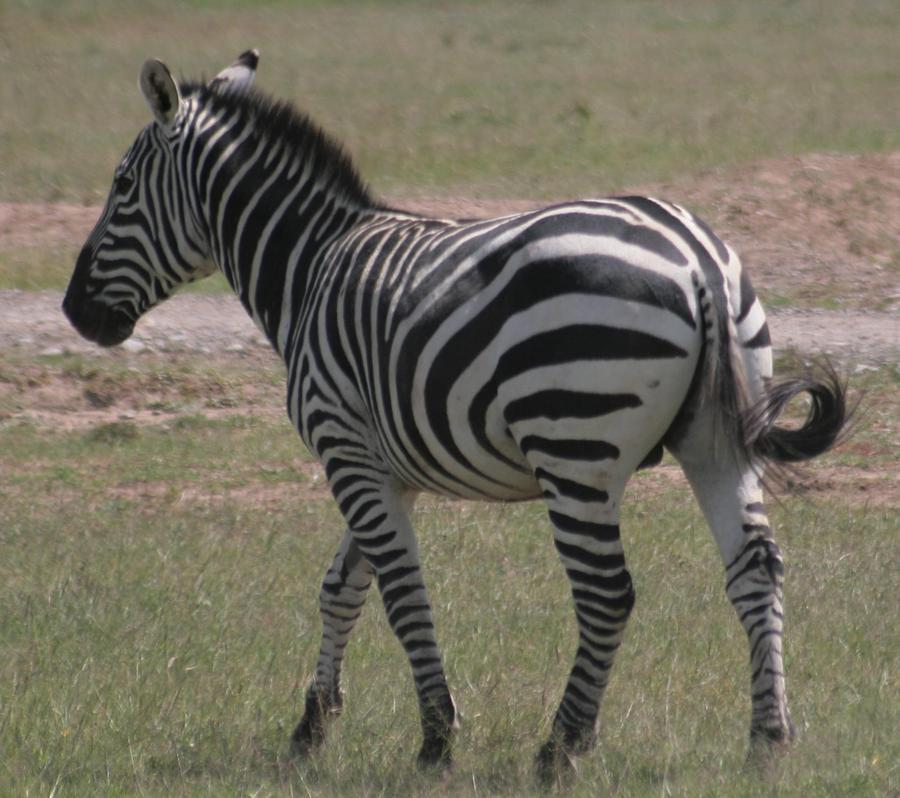zebra_plains: (259, 194, 657, 534)
